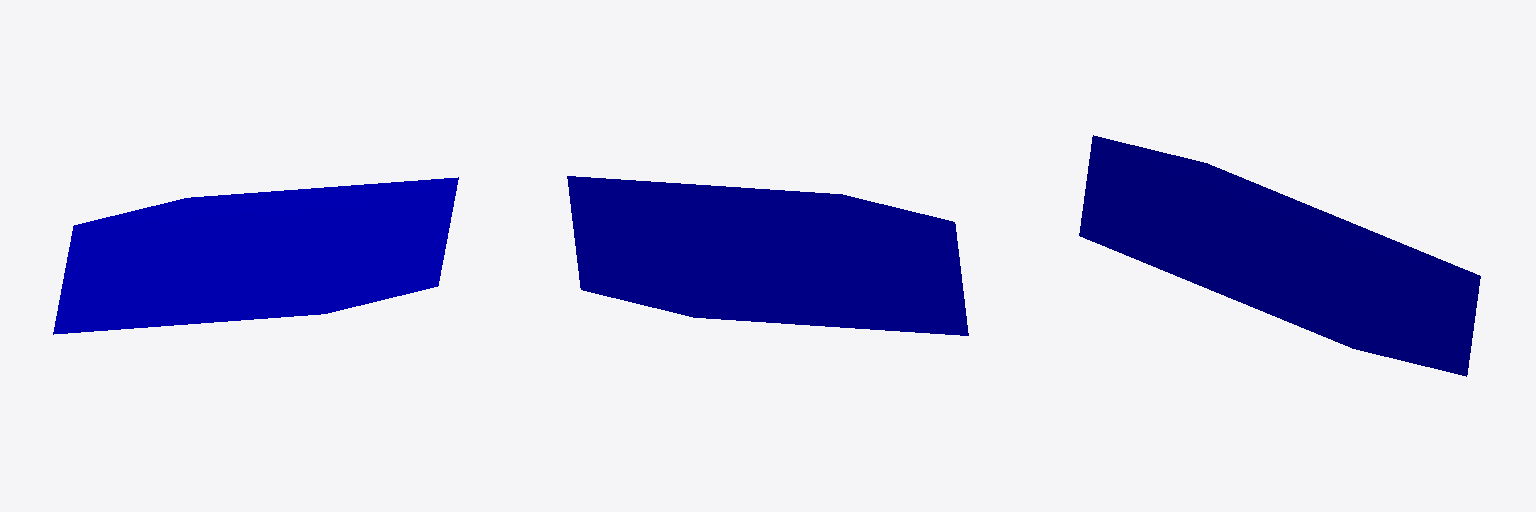
The model's file is planes_1-dynamic - BLK2GO-3630355-Scan 080 39.obj.
The picture shows the model from 3 angles: view 1: azimuth 30°, elevation 25°; view 2: azimuth 150°, elevation 25°; view 3: azimuth 330°, elevation 25°; orthographic projection.
Visible parts, largest first — view 1: 1-dynamic_-_BLK2GO-[number redacted]-Scan_080_39_0; view 2: 1-dynamic_-_BLK2GO-[number redacted]-Scan_080_39_0; view 3: 1-dynamic_-_BLK2GO-[number redacted]-Scan_080_39_0.
Boxes of the visible parts, <box> form: 1-dynamic_-_BLK2GO-[number redacted]-Scan_080_39_0: <box>53,177,458,334</box>; 1-dynamic_-_BLK2GO-[number redacted]-Scan_080_39_0: <box>567,176,968,335</box>; 1-dynamic_-_BLK2GO-[number redacted]-Scan_080_39_0: <box>1079,135,1480,376</box>.
Bounding box in the file's own units: 3.59 × 1.31 × 0.0738.